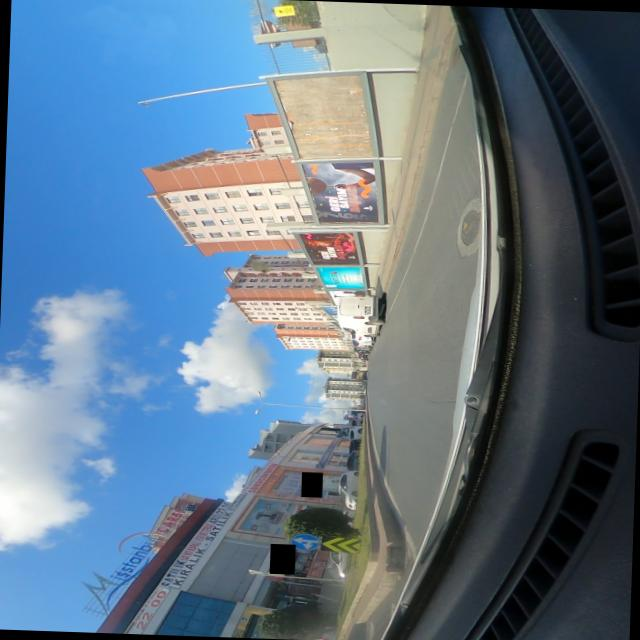SignStore: (269, 543, 295, 573), (301, 471, 323, 496)
